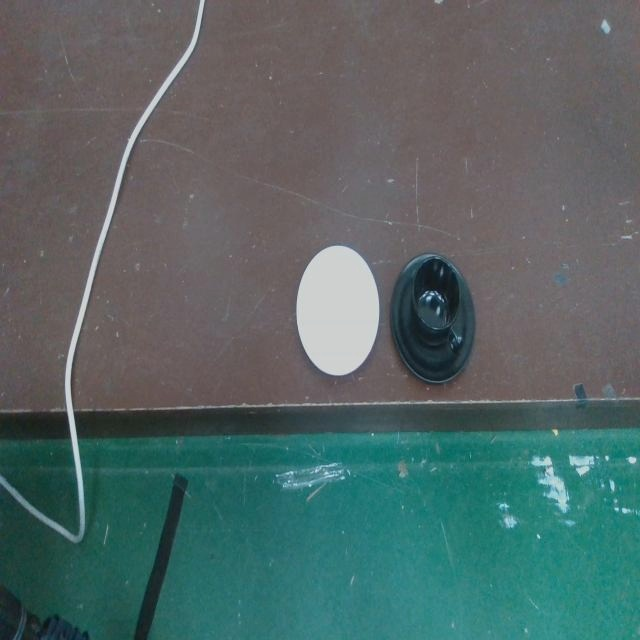black: (387, 250, 478, 389)
white: (294, 241, 380, 380)
